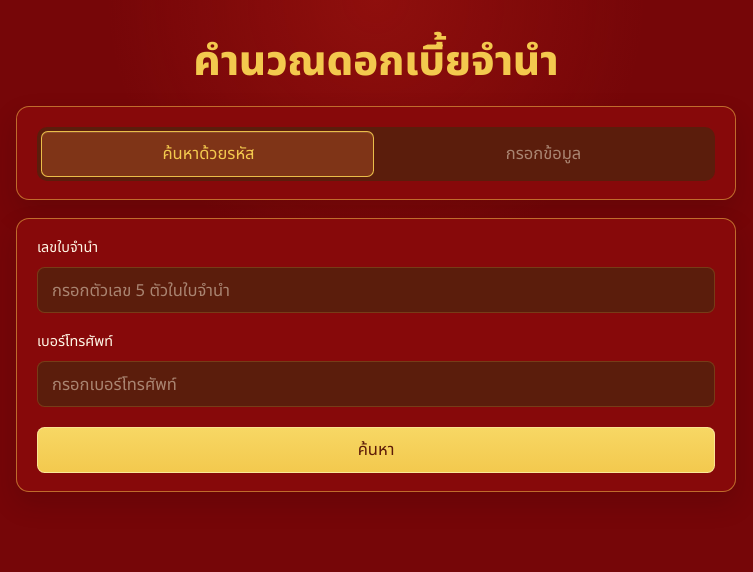
Test case: PublicHomePage › shows the required fields error in Thai
The image size is (753, 572).
Click the button "ค้นหา": (376, 450) [37, 427, 715, 473]
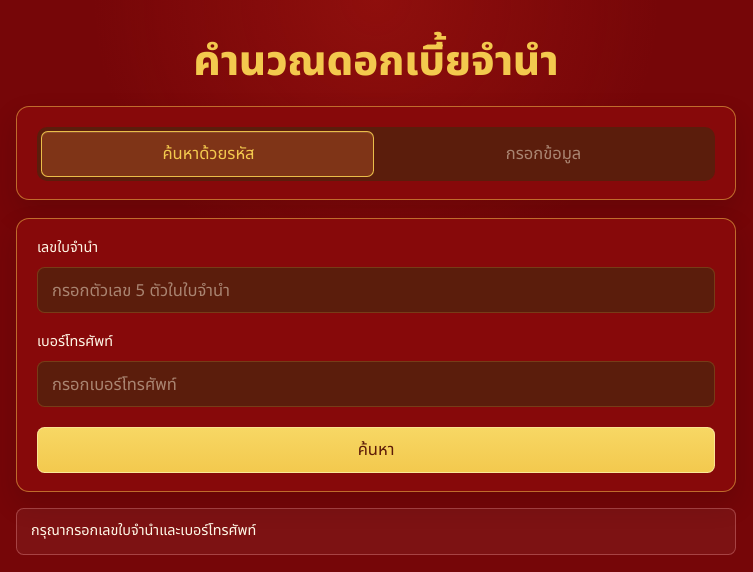
Result: the text "กรุณากรอกเลขใบจำนำและเบอร์โทรศัพท์" is shown at [16, 508, 736, 555]
